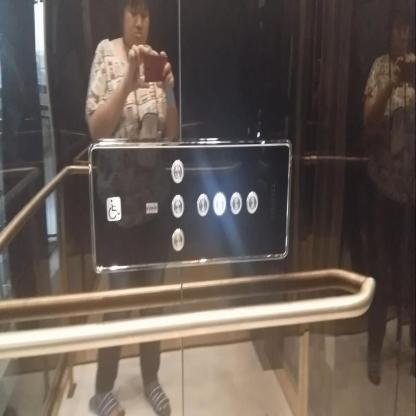CH: (106, 196, 121, 221)
close: (171, 158, 184, 183)
empty: (196, 191, 209, 217), (213, 191, 226, 215), (172, 228, 184, 250), (230, 191, 241, 215), (246, 192, 258, 214)
open: (171, 194, 184, 217)
